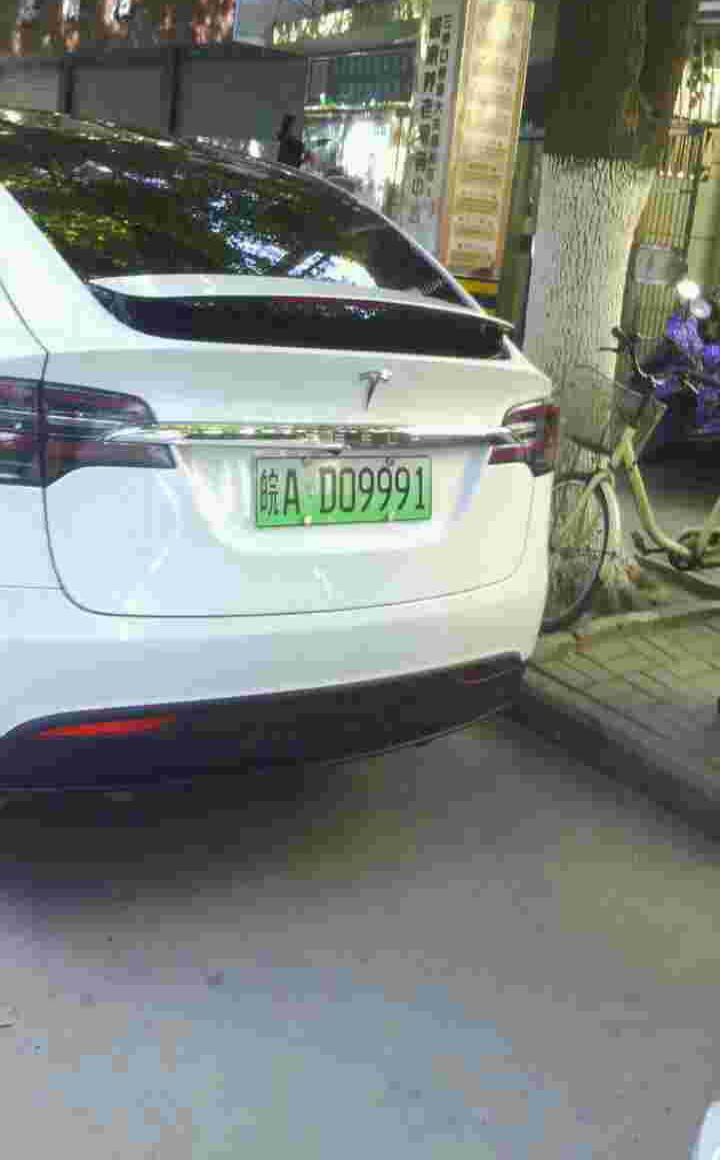car: (246, 456, 436, 521)
